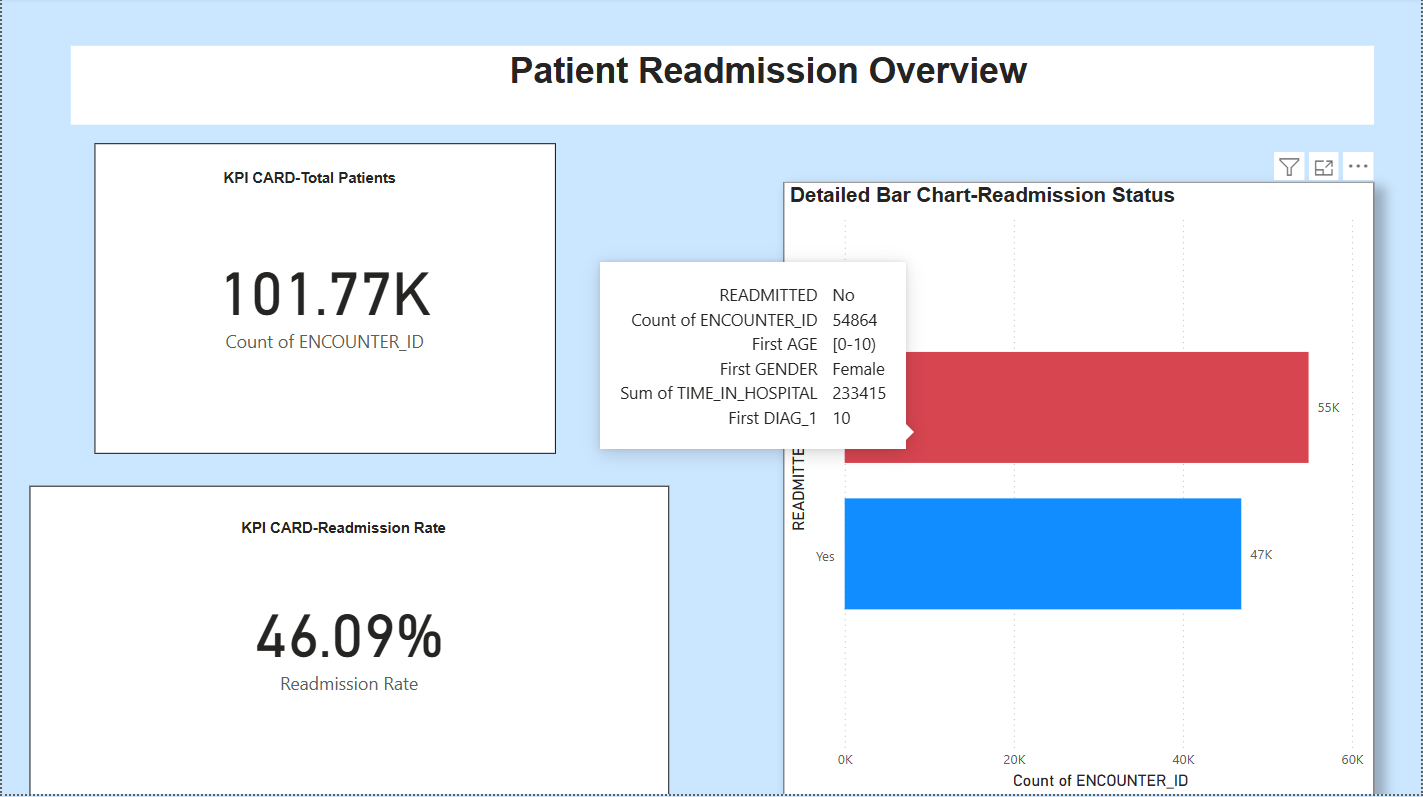

The dashboard page shown, as its layout file describes it:
{"tool":"powerbi","page":{"name":"Page 1","canvas":[1280,720],"ordinal":0},"visuals":[{"type":"card","fields":{"Values":["CountNonNull(cleaned_diabetes_data.ENCOUNTER_ID)"]},"box":[83.2,132.1,415.8,280],"z":0},{"type":"card","fields":{"Values":["cleaned_diabetes_data.Readmission Rate"]},"box":[24.5,440.2,577.2,280],"z":1000},{"type":"clusteredBarChart","title":"Detailed Bar Chart-Readmission Status","fields":{"Y":["CountNonNull(cleaned_diabetes_data.ENCOUNTER_ID)"],"Category":["cleaned_diabetes_data.READMITTED"]},"box":[704.4,166.3,533.2,553.9],"z":2000},{"type":"textbox","box":[62.4,44,1175.1,70.9],"z":3000},{"type":"textbox","box":[183.4,149.2,188.3,34.2],"z":3001},{"type":"textbox","box":[210.3,464.7,205.4,34.2],"z":3002}]}

Visuals, with their boxes in screenshot pixels (x1, y1, x2, y2), scaled from the page's 1280x720 canvas onto the 1423x797 screenshot:
card - CountNonNull(cleaned_diabetes_data.ENCOUNTER_ID): (left=92, top=146, right=555, bottom=456)
card - cleaned_diabetes_data.Readmission Rate: (left=27, top=487, right=669, bottom=796)
"Detailed Bar Chart-Readmission Status" clusteredBarChart: (left=783, top=184, right=1376, bottom=796)
textbox: (left=69, top=49, right=1376, bottom=127)
textbox: (left=204, top=165, right=413, bottom=203)
textbox: (left=234, top=514, right=462, bottom=552)
